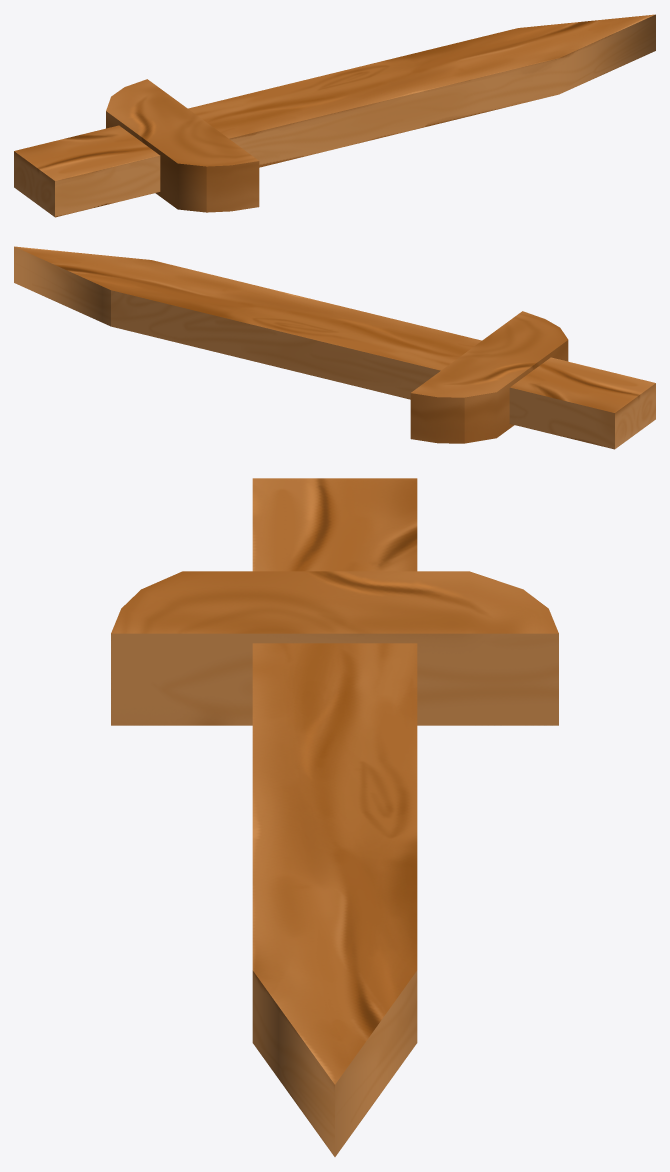
File: wooden_sword.fbx
The picture shows the model from 3 angles, top to bottom: view 1: azimuth 30°, elevation 25°; view 2: azimuth 150°, elevation 25°; view 3: azimuth 270°, elevation 25°; orthographic projection. The views are drawn at different scales.
Visible parts, largest first — view 1: pCube6; view 2: pCube6; view 3: pCube6.
Boxes of the visible parts, left/top/right/bottom form: pCube6: left=14, top=14, right=655, bottom=217; pCube6: left=14, top=246, right=655, bottom=449; pCube6: left=111, top=478, right=558, bottom=1156.
Size of the model in its own units: 3.2 by 0.2267 by 1.
